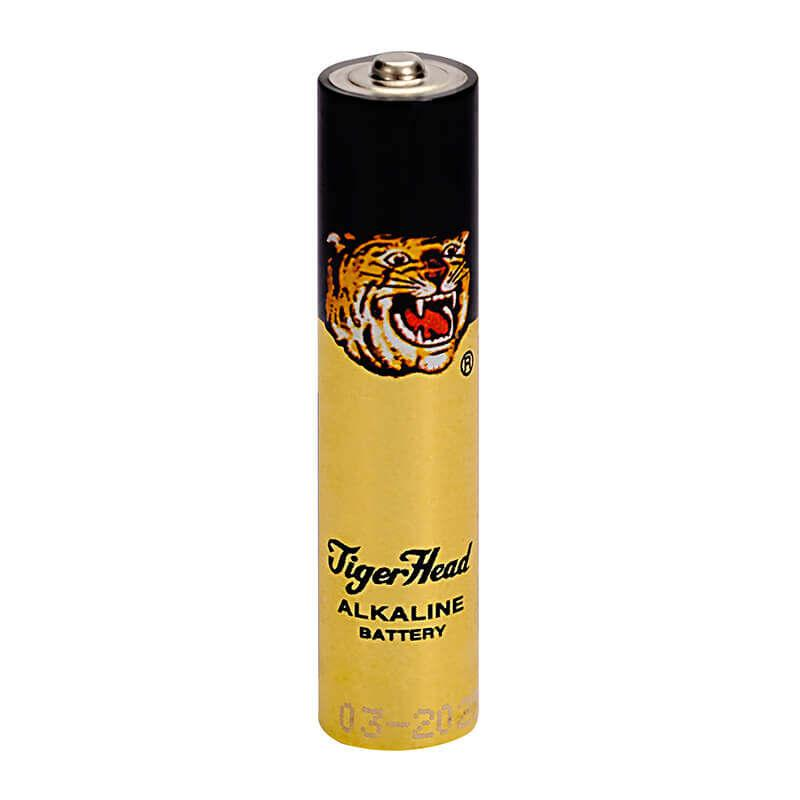AAA: (305, 48, 493, 756)
